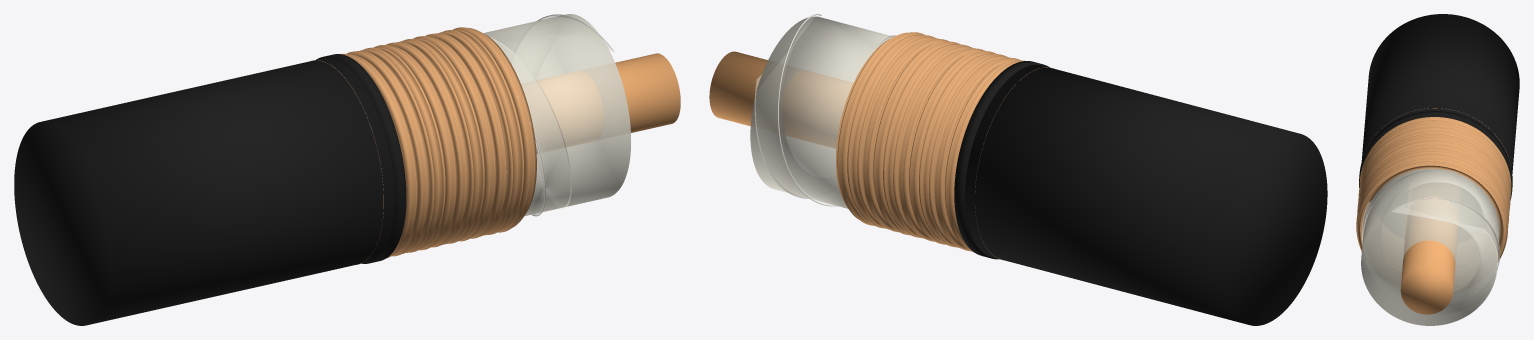
File: rf-ldf7.glb
3 views of the same model, side by side, from view 1: azimuth 30°, elevation 25°; view 2: azimuth 150°, elevation 25°; view 3: azimuth 270°, elevation 25° (orthographic). The views are drawn at different scales.
Parts seen in each view (by area): view 1: black PE jacket body, corrugated copper shield, foam PE dielectric, solid center conductor continuous, surface PTFE tape wrap, jacket cut lip; view 2: black PE jacket body, corrugated copper shield, foam PE dielectric, solid center conductor continuous, jacket cut lip, surface PTFE tape wrap; view 3: black PE jacket body, foam PE dielectric, corrugated copper shield, surface PTFE tape wrap, solid center conductor continuous, jacket cut lip, subtle PTFE tape lap line.
Part boxes in pixels (box(x1,y1,x2,y2)): black PE jacket body: box(14, 58, 394, 325); corrugated copper shield: box(310, 27, 536, 264); foam PE dielectric: box(483, 14, 630, 216); solid center conductor continuous: box(522, 53, 680, 153); surface PTFE tape wrap: box(490, 15, 612, 214); jacket cut lip: box(316, 54, 406, 263); black PE jacket body: box(965, 65, 1327, 325); corrugated copper shield: box(836, 32, 1053, 259); foam PE dielectric: box(750, 16, 893, 208); solid center conductor continuous: box(709, 51, 852, 148); jacket cut lip: box(954, 61, 1049, 259); surface PTFE tape wrap: box(755, 15, 895, 204); black PE jacket body: box(1361, 14, 1519, 173); foam PE dielectric: box(1361, 168, 1499, 325); corrugated copper shield: box(1356, 108, 1511, 271); surface PTFE tape wrap: box(1362, 169, 1498, 305); solid center conductor continuous: box(1400, 196, 1458, 314); jacket cut lip: box(1359, 111, 1512, 200); subtle PTFE tape lap line: box(1361, 198, 1500, 269).
Bounding box in the file's own units: 6.69 × 2.07 × 2.2.
